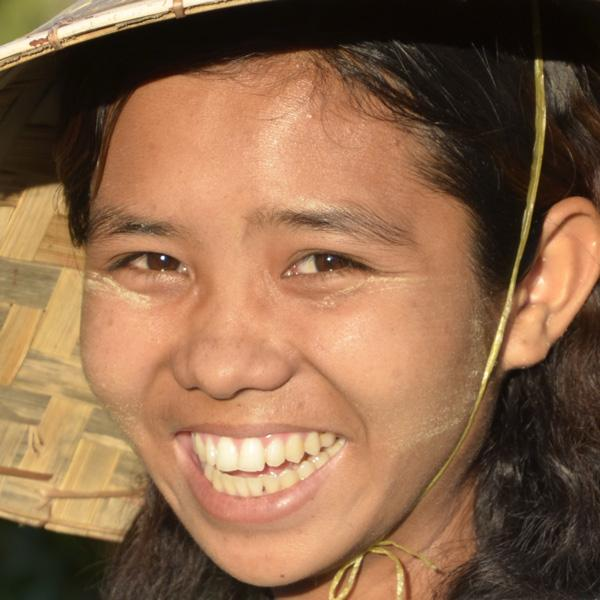Eyes: (269, 234, 376, 298), (98, 235, 204, 297)
